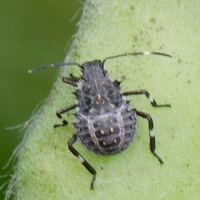insect: (29, 51, 171, 188)
